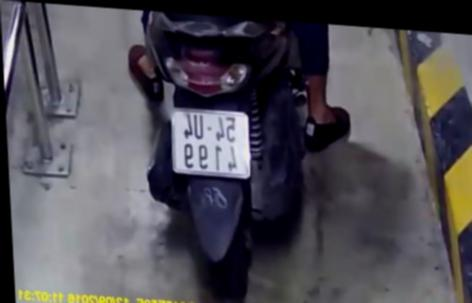License_Plate: (166, 103, 263, 191)
